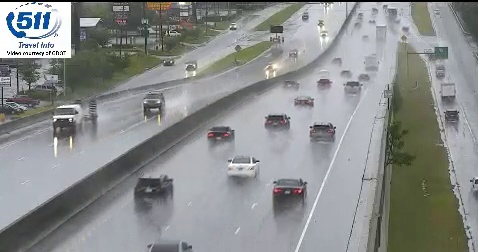car: (134, 175, 173, 201), (273, 179, 307, 202), (228, 157, 259, 178), (310, 122, 334, 142), (207, 126, 235, 143), (265, 114, 290, 132)
